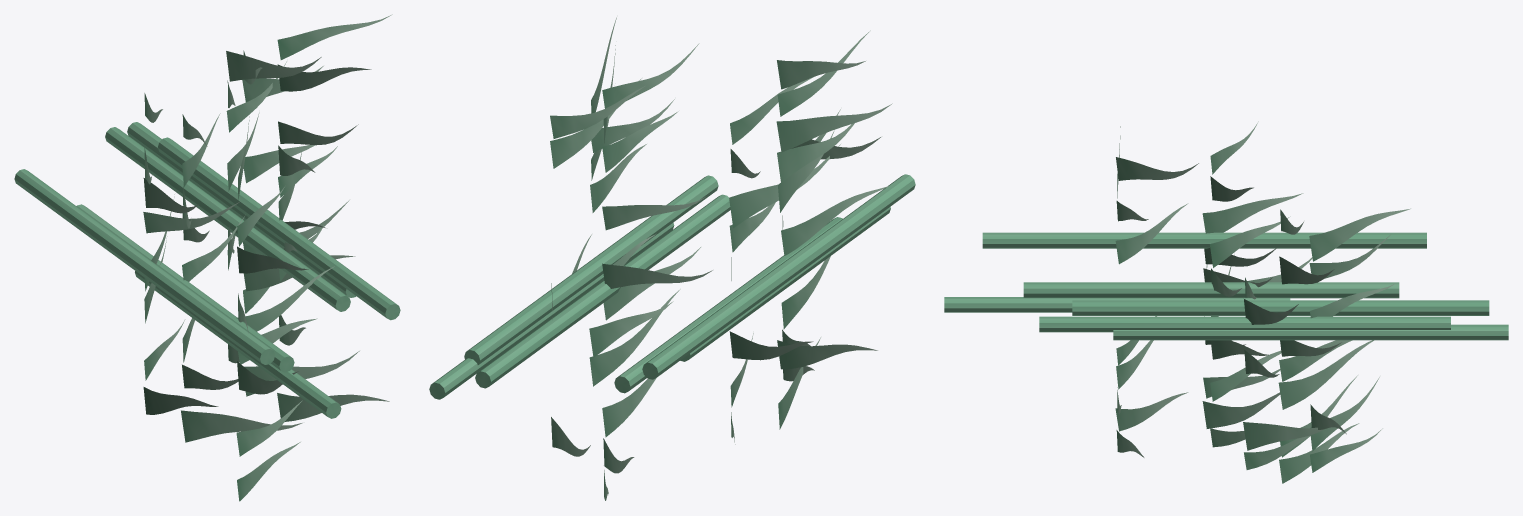
File: mesh-plant-050-crystal-stem_LOD0.glb
3 views of the same model, side by side, from view 1: azimuth 30°, elevation 25°; view 2: azimuth 150°, elevation 25°; view 3: azimuth 270°, elevation 25° (orthographic). The views are drawn at different scales.
Visible parts, largest first — view 1: geometry_0; view 2: geometry_0; view 3: geometry_0.
Boxes of the visible parts, box(x1,y1,x2,y2) form: geometry_0: box(14, 14, 400, 501); geometry_0: box(429, 17, 915, 500); geometry_0: box(944, 121, 1508, 483).
Bounding box in the file's own units: 0.9285 × 1.07 × 1.41.
